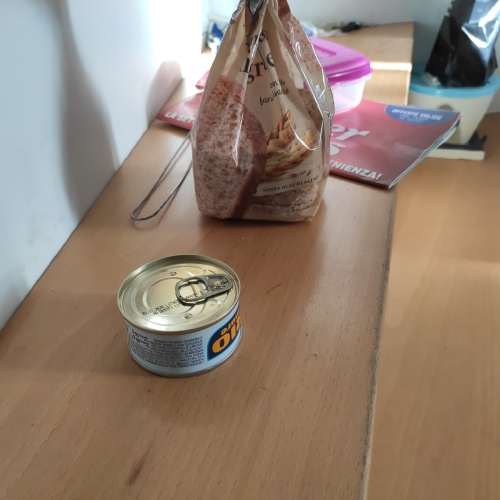tonno: (105, 245, 255, 383)
